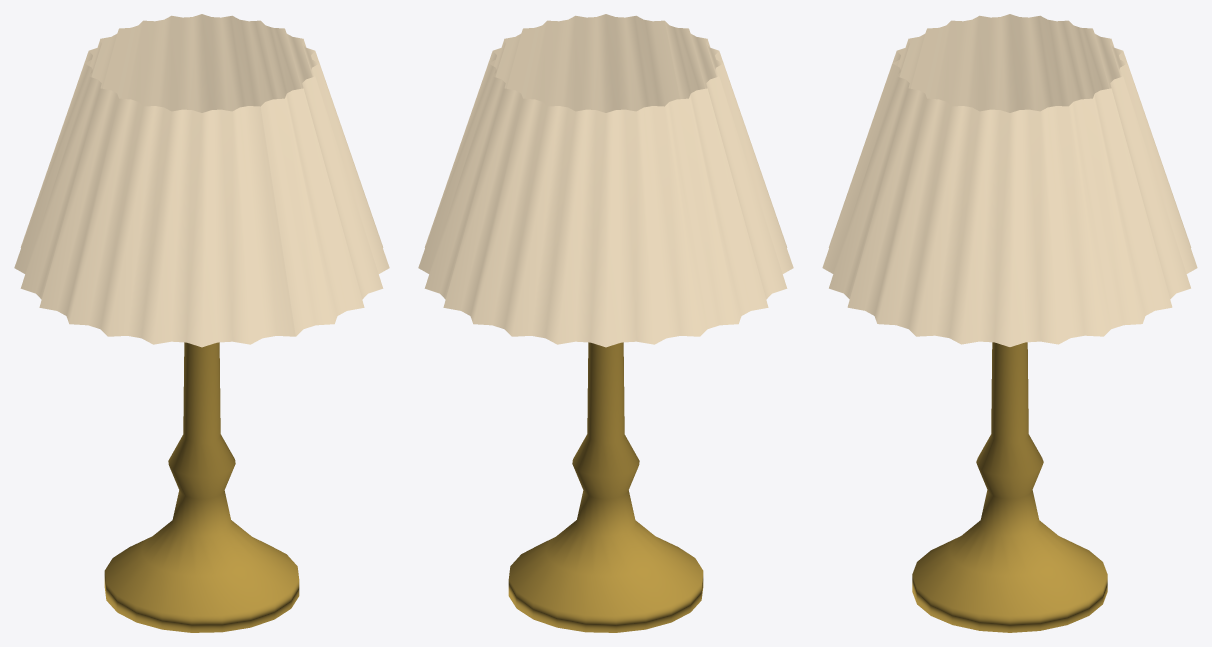
Rendered from lamp-master-2.glb.
The picture shows the model from 3 angles, left to right: view 1: azimuth 30°, elevation 25°; view 2: azimuth 150°, elevation 25°; view 3: azimuth 270°, elevation 25°; orthographic projection.
Parts seen in each view (by area): view 1: lamp-master-2; view 2: lamp-master-2; view 3: lamp-master-2.
Boxes of the visible parts, x1,y1,x2,y2 form: lamp-master-2: (14,14,389,632); lamp-master-2: (418,14,793,632); lamp-master-2: (822,14,1197,632).
Bounding box in the file's own units: 0.9984 × 1.55 × 0.9984.
